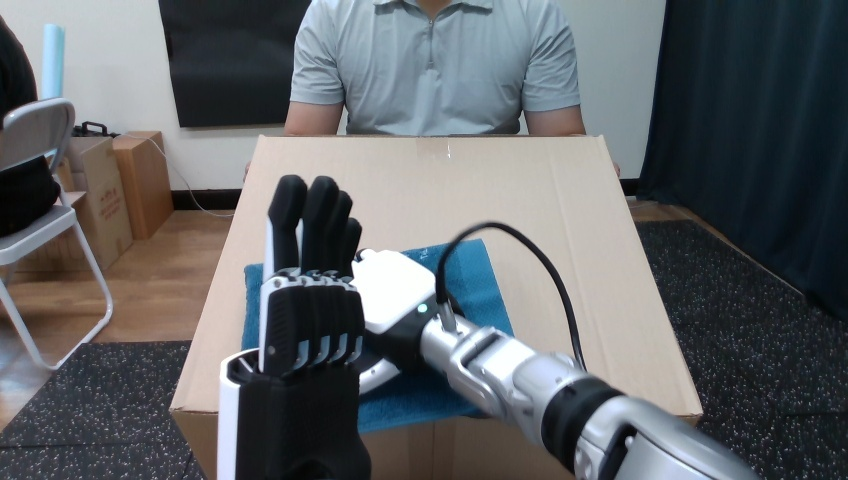left robot hand: (217, 175, 755, 479), (444, 228, 575, 357)
